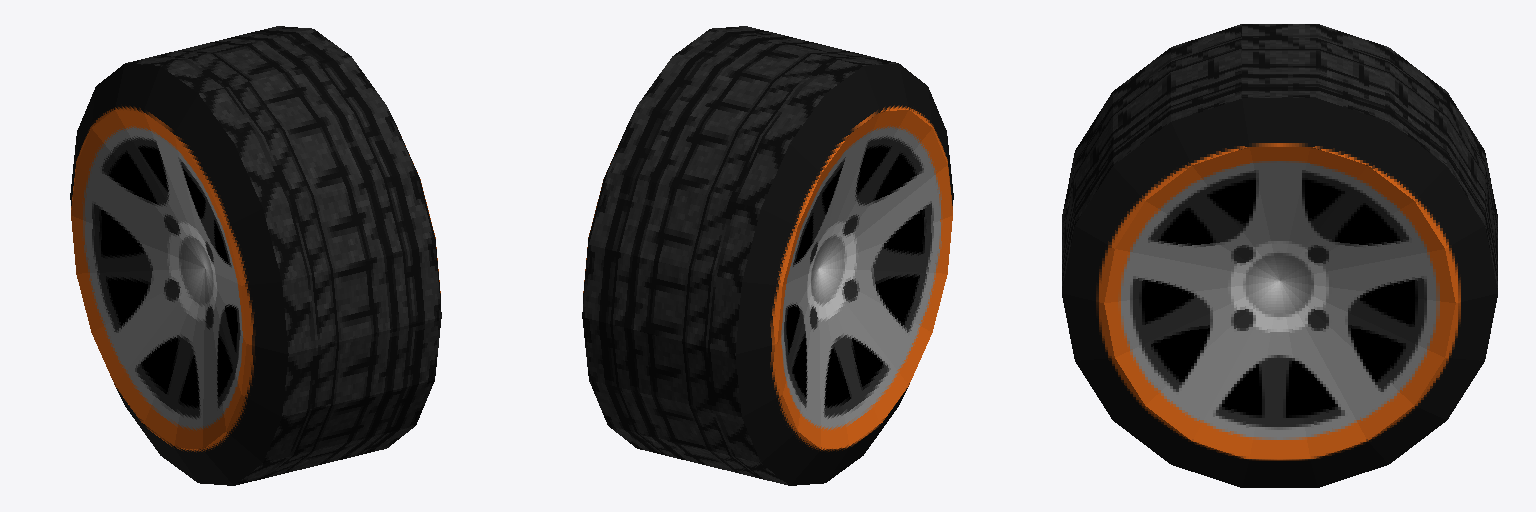
3 views of the same model, side by side, from view 1: azimuth 30°, elevation 25°; view 2: azimuth 150°, elevation 25°; view 3: azimuth 270°, elevation 25° (orthographic).
Parts seen in each view (by area): view 1: wheel_Cylinder01x; view 2: wheel_Cylinder01x; view 3: wheel_Cylinder01x.
Boxes of the visible parts, box(x1,y1,x2,y2) form: wheel_Cylinder01x: box(70, 26, 441, 485); wheel_Cylinder01x: box(582, 26, 953, 485); wheel_Cylinder01x: box(1062, 24, 1497, 487).
Size of the model in its own units: 30.68 by 58.78 by 59.69.
Materials: 1 (1 with a texture image).